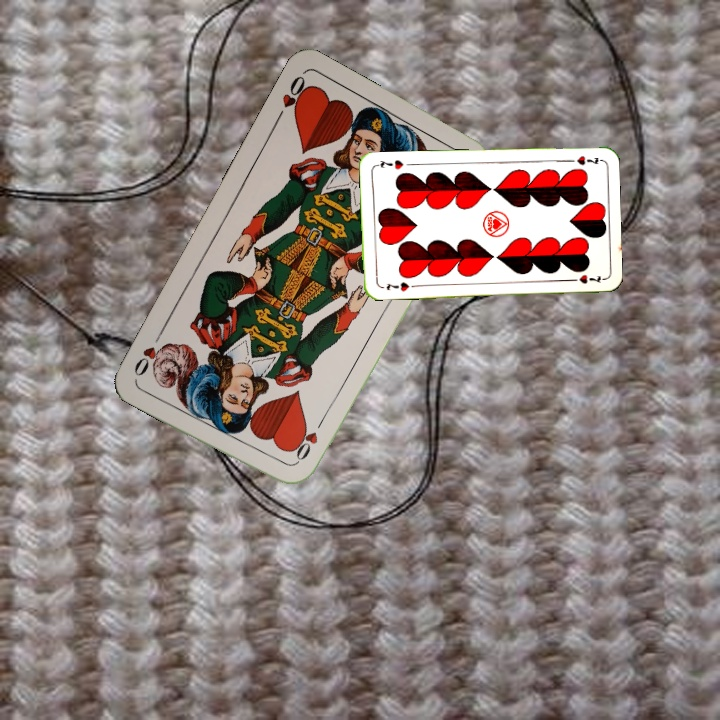H7: (562, 152, 603, 168), (382, 278, 412, 294)
HO: (271, 71, 313, 124), (290, 414, 327, 467)
